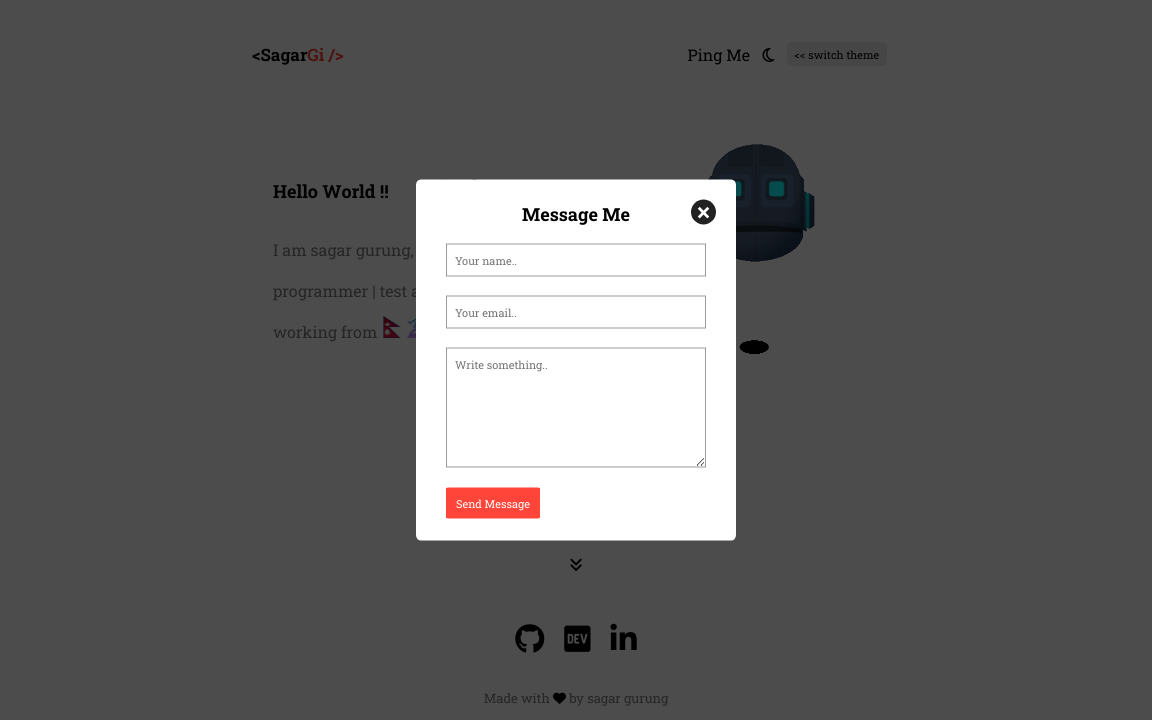
Test: Contact/Message Me Form › on trigger send message › should show "Fields cannot be empty !!" on empty username
Click the button with id "submit".
click(493, 503)  # box [446,488,540,518]
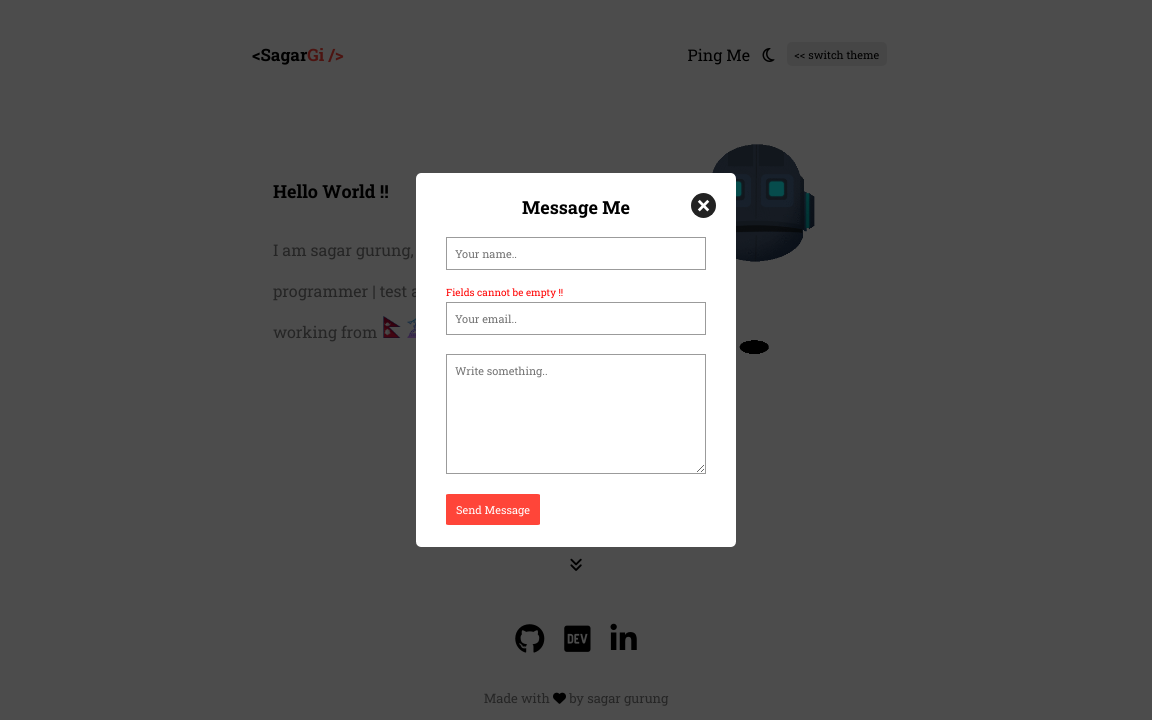
Result: the text "Fields cannot be empty !!" is shown at [446,286,563,299]
